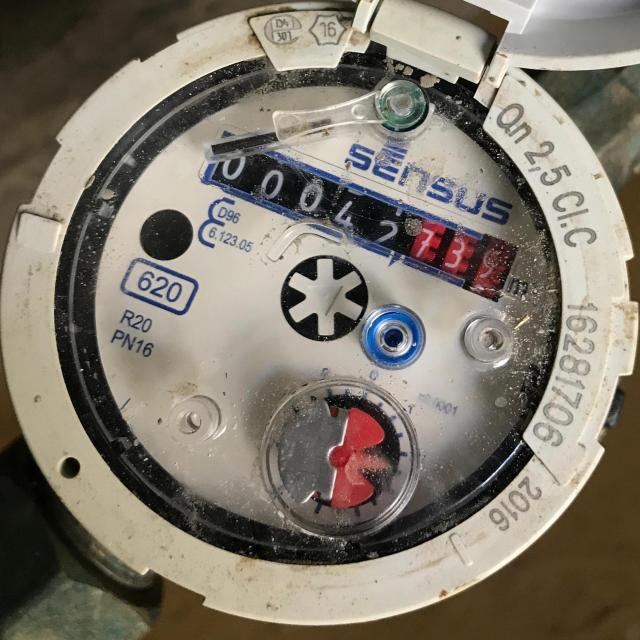gaz_meter: (6, 13, 634, 631)
indication: (200, 126, 520, 307)
